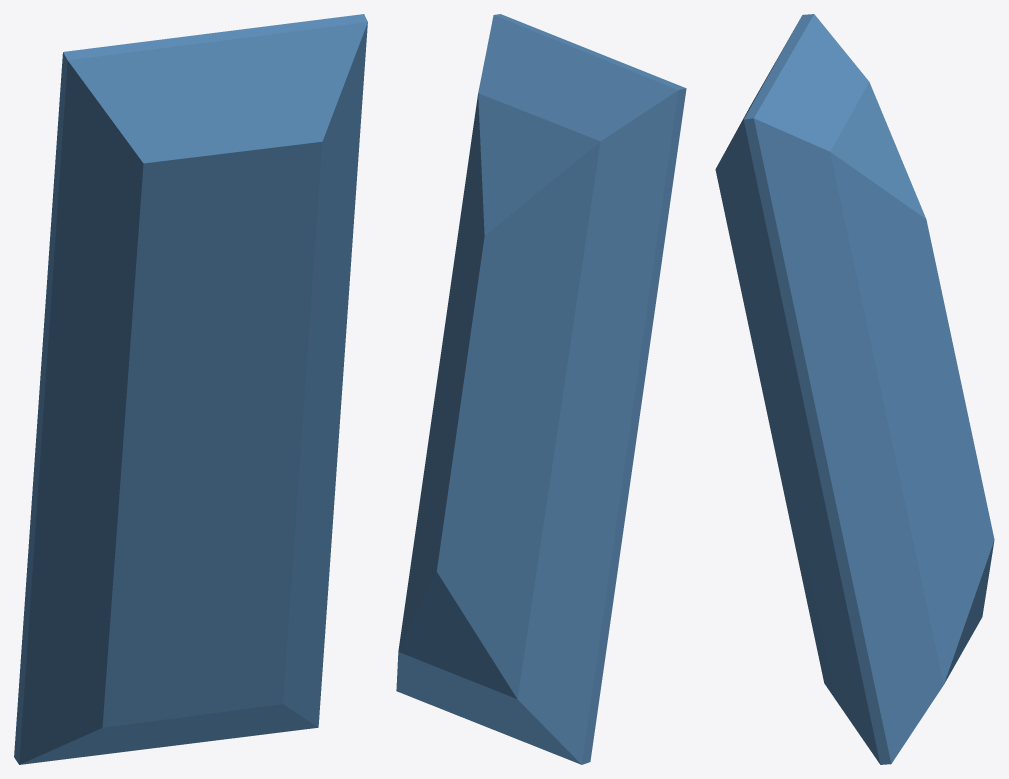
Rendered from BL1_Spacers_BaguetteStone.001 3.glb.
The picture shows the model from 3 angles, left to right: view 1: azimuth 30°, elevation 25°; view 2: azimuth 150°, elevation 25°; view 3: azimuth 270°, elevation 25°; orthographic projection. The views are drawn at different scales.
Parts seen in each view (by area): view 1: BL1_Spacers_BaguetteStone.001; view 2: BL1_Spacers_BaguetteStone.001; view 3: BL1_Spacers_BaguetteStone.001.
Boxes of the visible parts, left/top/right/bottom form: BL1_Spacers_BaguetteStone.001: left=14, top=14, right=367, bottom=764; BL1_Spacers_BaguetteStone.001: left=396, top=14, right=686, bottom=764; BL1_Spacers_BaguetteStone.001: left=715, top=14, right=994, bottom=764.
Bounding box in the file's own units: 0.2544 × 0.6279 × 0.2506.
